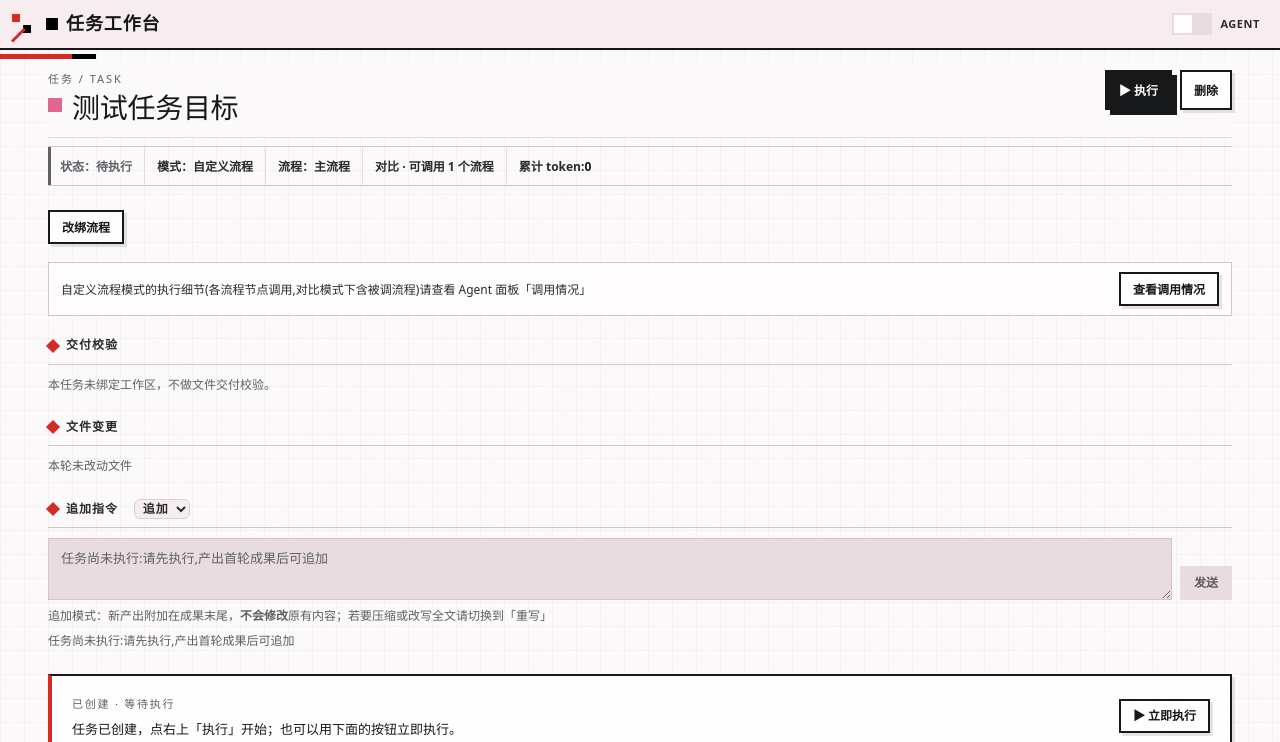
TaskBoard 改绑流程入选区(B 批 B3) › 切换任务时入选区收起(草稿不跨任务沿用)
Click the button "改绑流程".
click(86, 228)  # box [48,210,124,244]
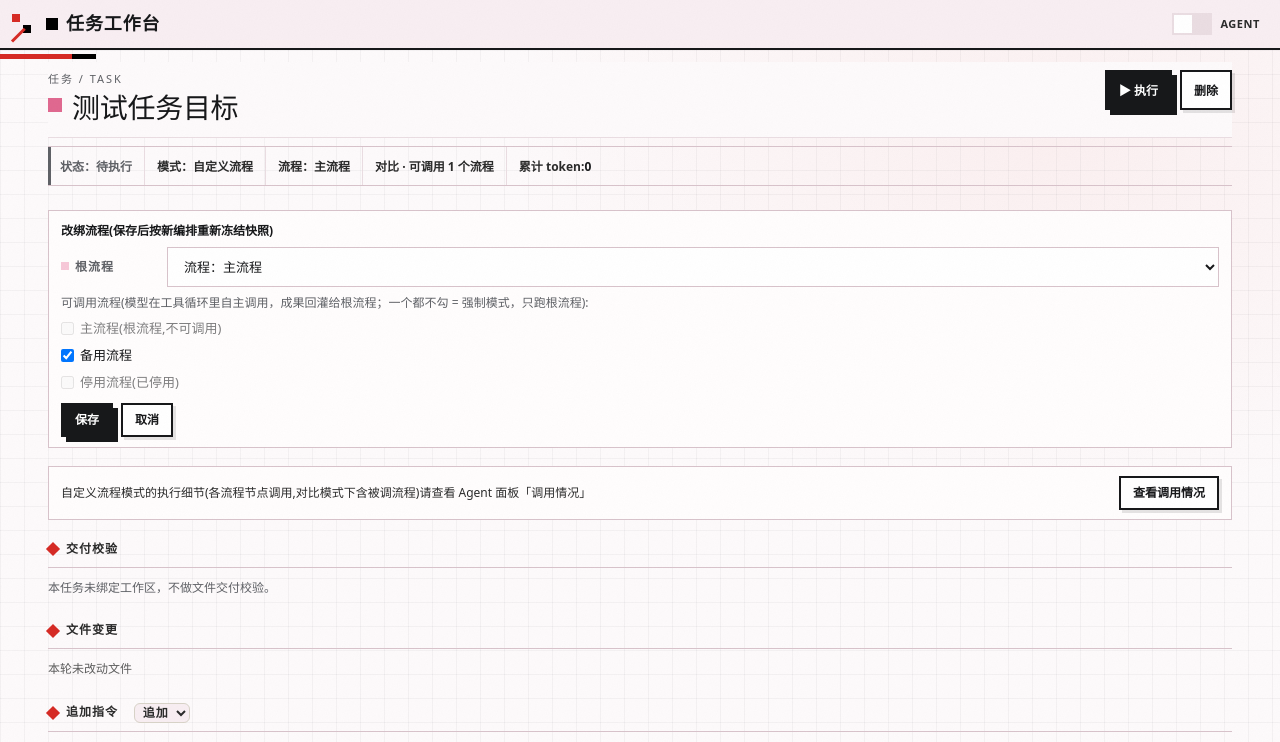
Result: the element with class "sv-task-flow-bind-panel" is shown at [48,210,1232,448]
